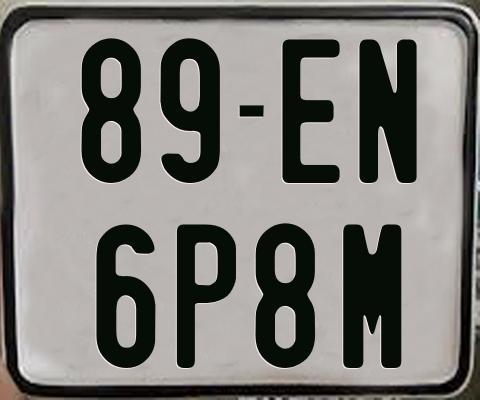6: (93, 221, 154, 365)
8: (79, 37, 145, 184), (254, 221, 317, 368)
9: (160, 37, 224, 183)
E: (280, 39, 341, 185)
M: (343, 222, 407, 369)
N: (356, 38, 418, 186)
P: (174, 222, 236, 366)
